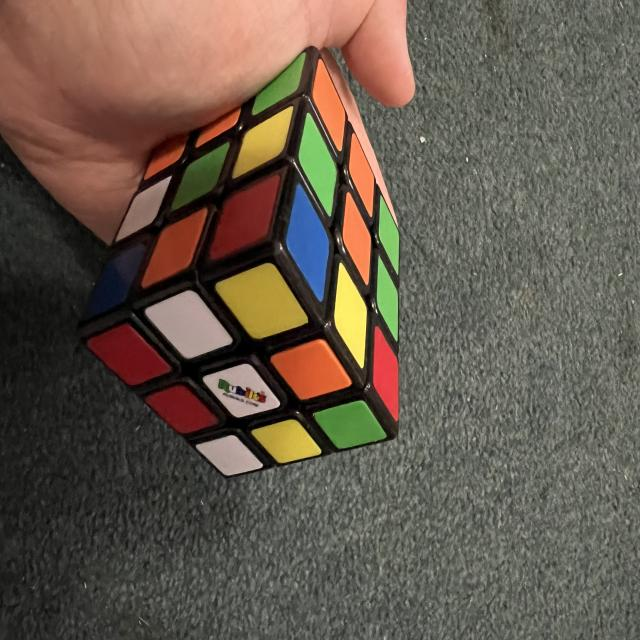blue: (263, 183, 355, 303), (82, 233, 149, 328)
center: (200, 348, 283, 434), (157, 140, 245, 213), (326, 192, 388, 286)
green: (282, 112, 353, 218), (157, 140, 245, 213), (245, 50, 319, 124), (312, 396, 387, 455), (367, 194, 410, 275), (377, 256, 398, 341)
orange: (140, 195, 210, 300), (269, 333, 353, 408), (326, 192, 388, 286), (299, 59, 360, 152), (336, 132, 388, 217), (133, 129, 197, 180), (189, 105, 248, 149)
red: (206, 162, 286, 274), (84, 311, 174, 401), (143, 372, 221, 449), (372, 326, 399, 421)
white: (142, 278, 234, 375), (201, 349, 282, 434), (111, 168, 176, 252), (194, 421, 265, 491)
yellow: (213, 252, 310, 354), (217, 105, 310, 180), (250, 414, 322, 469), (332, 262, 369, 368)
